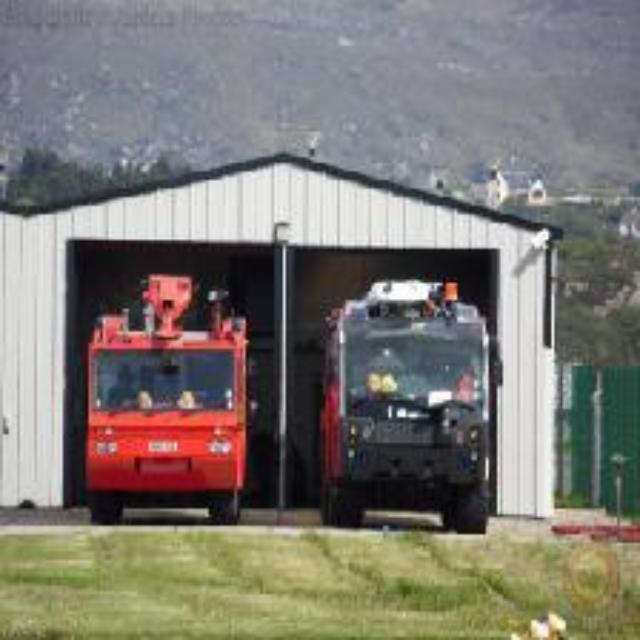emergency: (84, 278, 248, 530), (342, 285, 496, 533)
